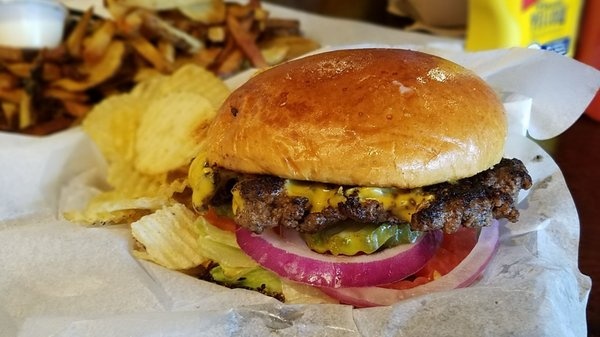soup: (131, 46, 534, 309), (60, 62, 233, 226)
